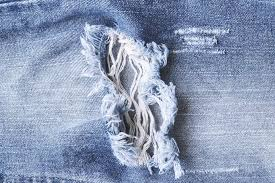Hole: (68, 9, 201, 183), (162, 17, 260, 59)
